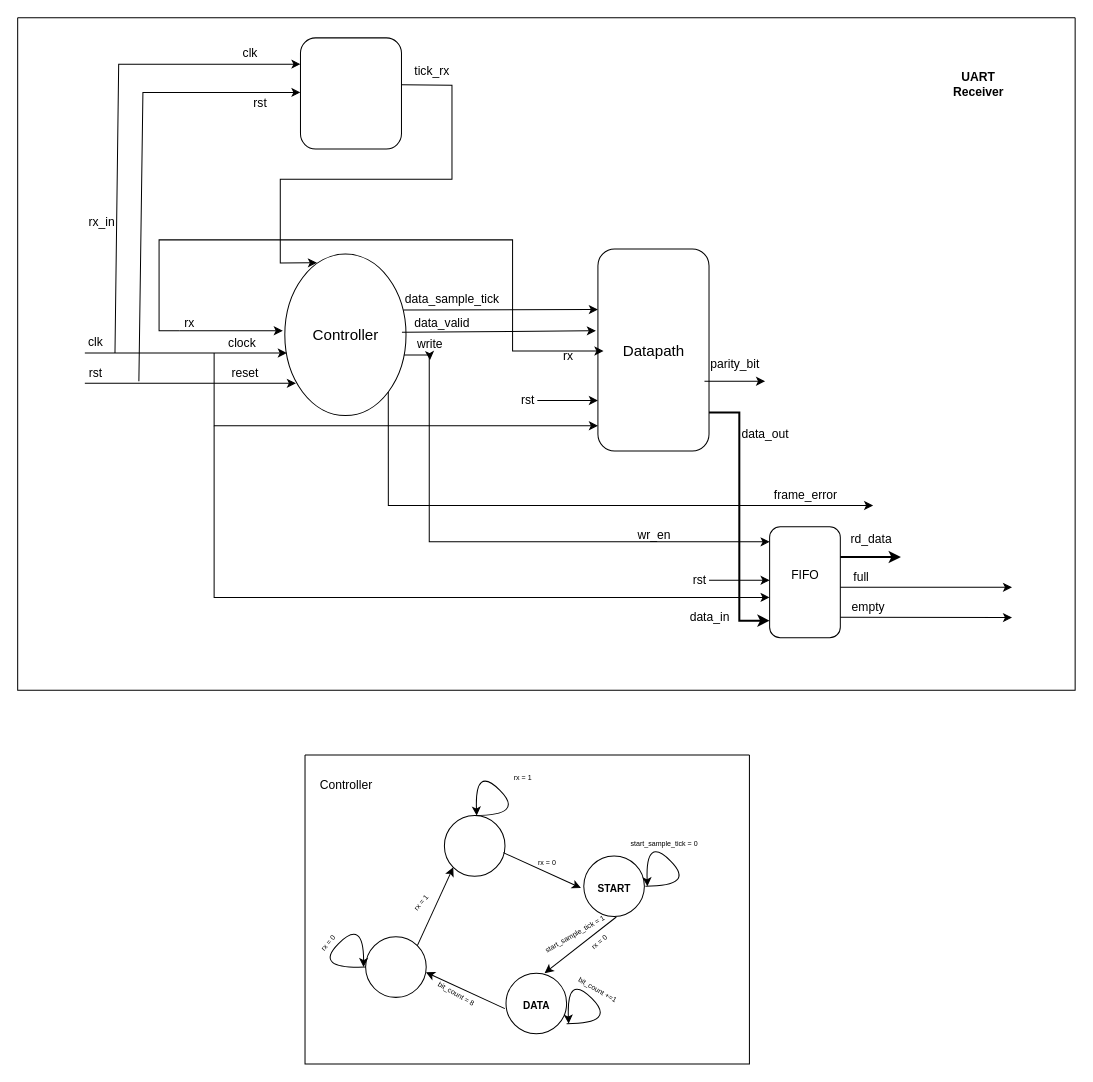
Image size: 1093x1082. Some labels were removed from this diagram. Each missing label, with the centre of its shape:
Baud_Rate: [350,93]
IDLE: [474,845]
STOP: [395,966]
